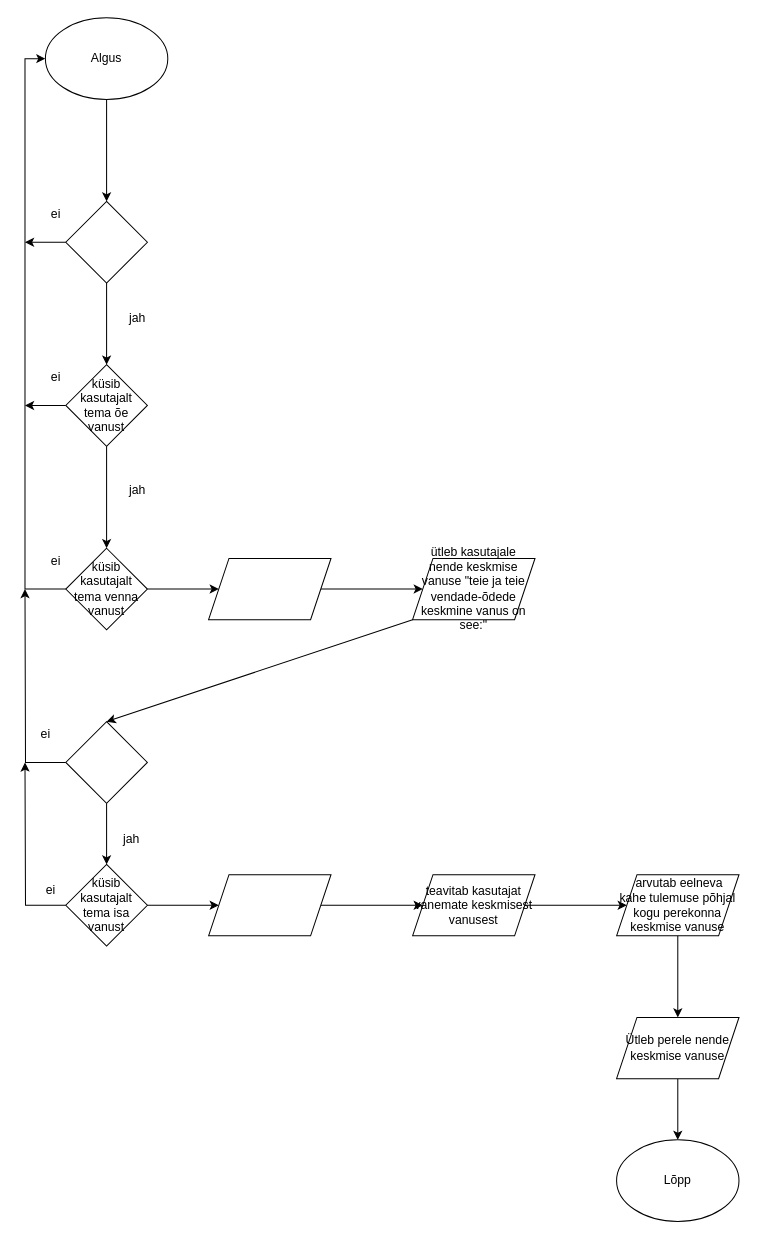
Image size: 757x1239. Some labels were removed from this diagram. Each missing label, with the centre of its shape:
arvutab nende keskmise: (269,588)
arvutab vanemate keskmise vanuse: (269,905)
küsib kasutajalt tema ema vanust: (106,762)
küsib kasutajalt tema vanust: (106,241)
